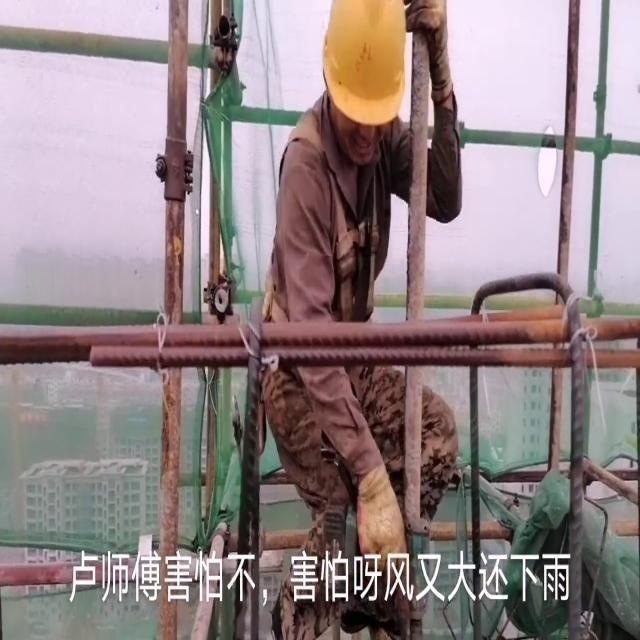Arnes_seguridad: (262, 101, 388, 324)
